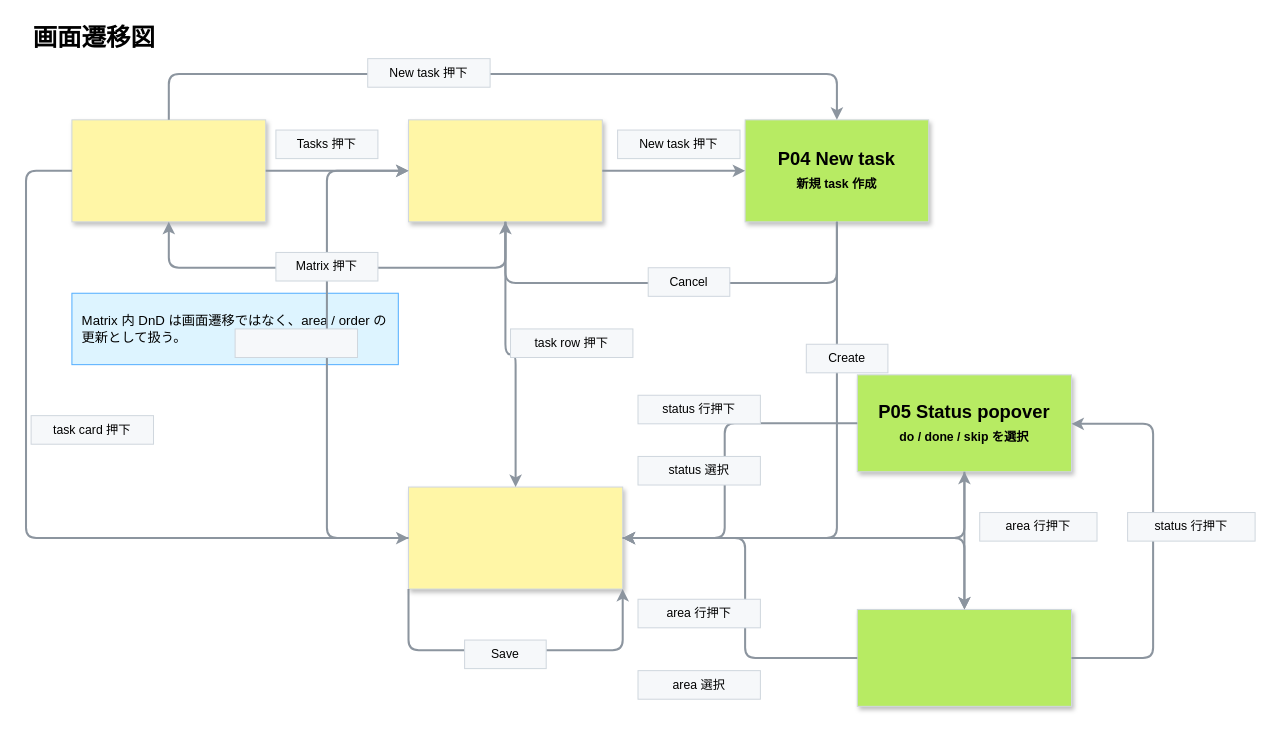
This 1273x731 diagram has some shape labels left out. Here are the shapes that lost their labels. From the top down, the centre of each, then its label:
At pixel 169 172: "P01 Matrix do の task を 4 象限で整理".
At pixel 505 172: "P02 Task list 全 status の task 一覧".
At pixel 296 343: "Tasks / Cancel".
At pixel 516 539: "P03 Task detail title / description / status / area".
At pixel 965 658: "P06 Area popover 1 / 2 / 3 / 4 を選択".
